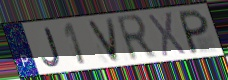1: (63, 21, 87, 68)
J: (40, 26, 62, 68)
P: (178, 7, 210, 55)
R: (114, 13, 160, 65)
V: (85, 17, 122, 65)
X: (146, 10, 189, 59)
